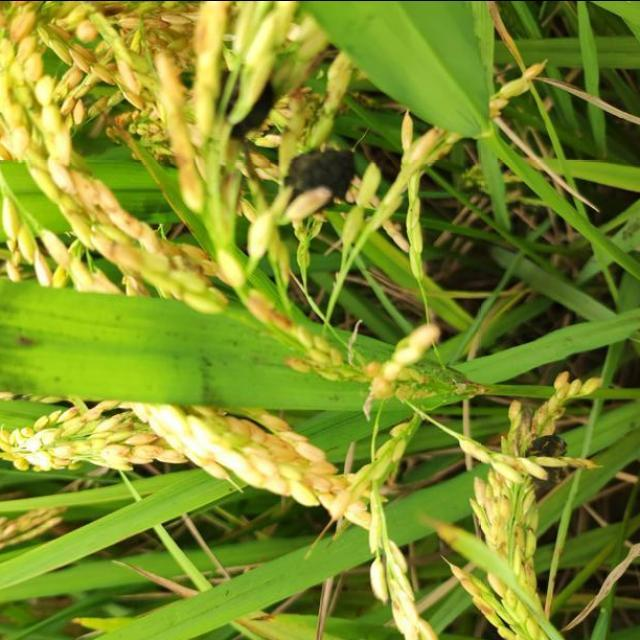Leaf_Scald: (282, 146, 358, 208), (211, 68, 276, 136), (522, 435, 572, 492)
